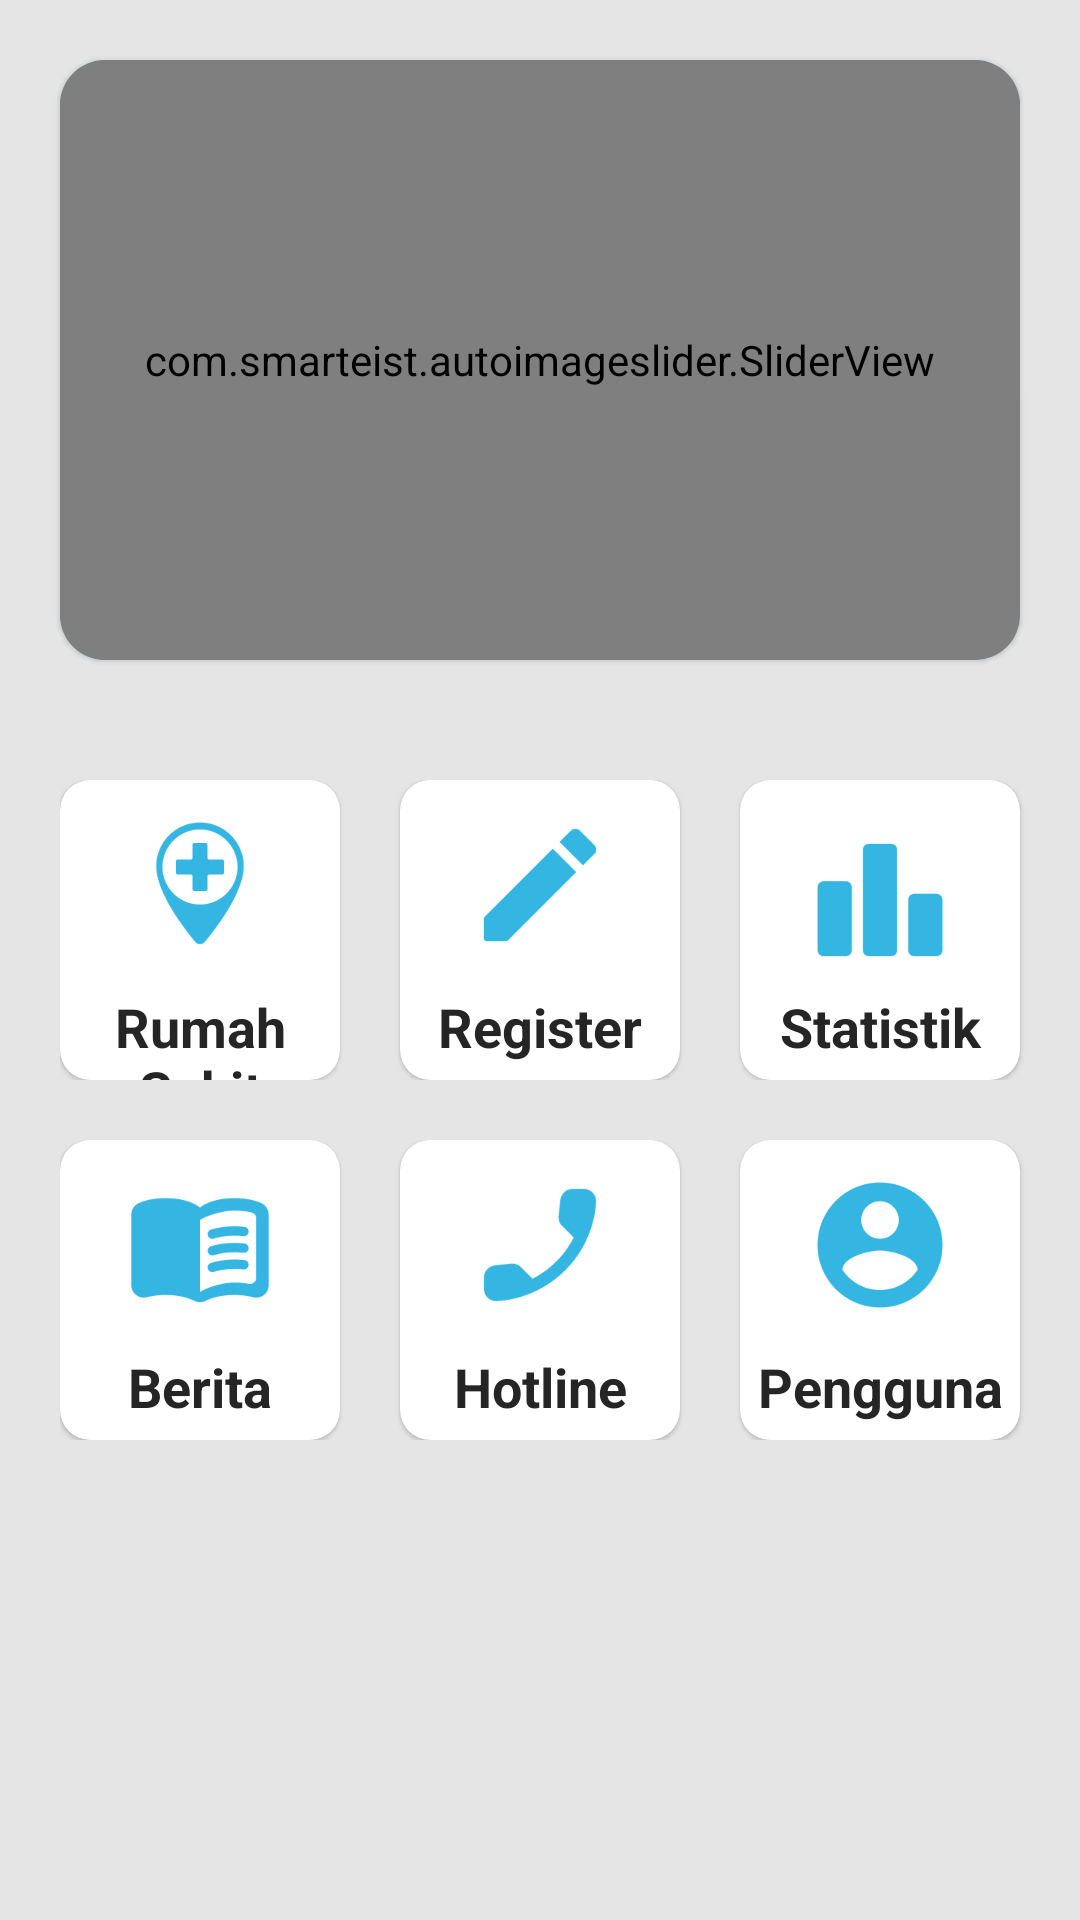

Icon click points for this 1080*1920 phone screenshot, format (x=x, y=y):
call: (x=540, y=1245)
daftar: (x=540, y=885)
hospital location: (x=200, y=883)
news: (x=200, y=1250)
user: (x=880, y=1245)
